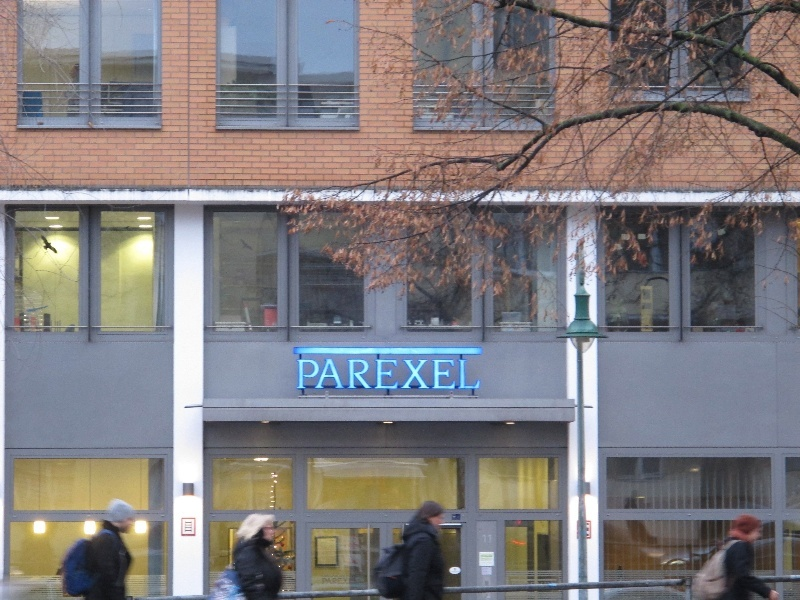text: (305, 359, 320, 390), (321, 359, 336, 390), (337, 359, 352, 390), (353, 359, 368, 390), (369, 359, 384, 390), (385, 359, 400, 390), (401, 359, 416, 390), (417, 359, 432, 390), (433, 359, 448, 390), (449, 359, 464, 390), (465, 359, 480, 390), (296, 359, 304, 390), (482, 535, 496, 544), (337, 577, 352, 585), (323, 577, 336, 585), (353, 577, 356, 585)
